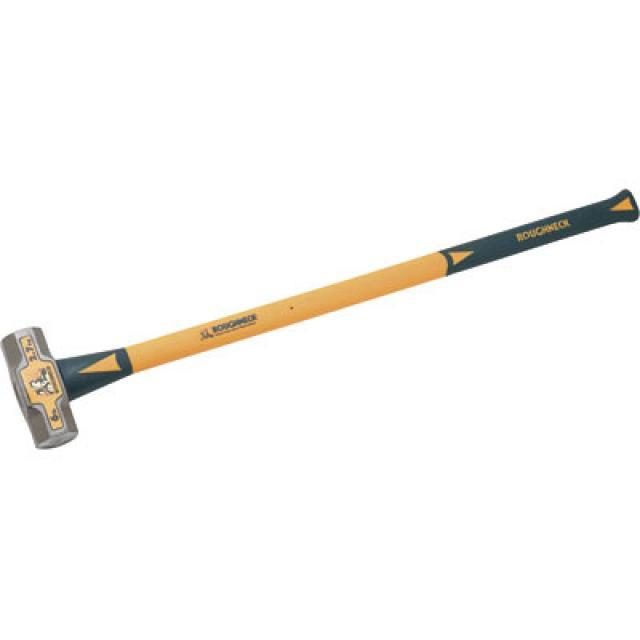hammer: (0, 182, 640, 464)
